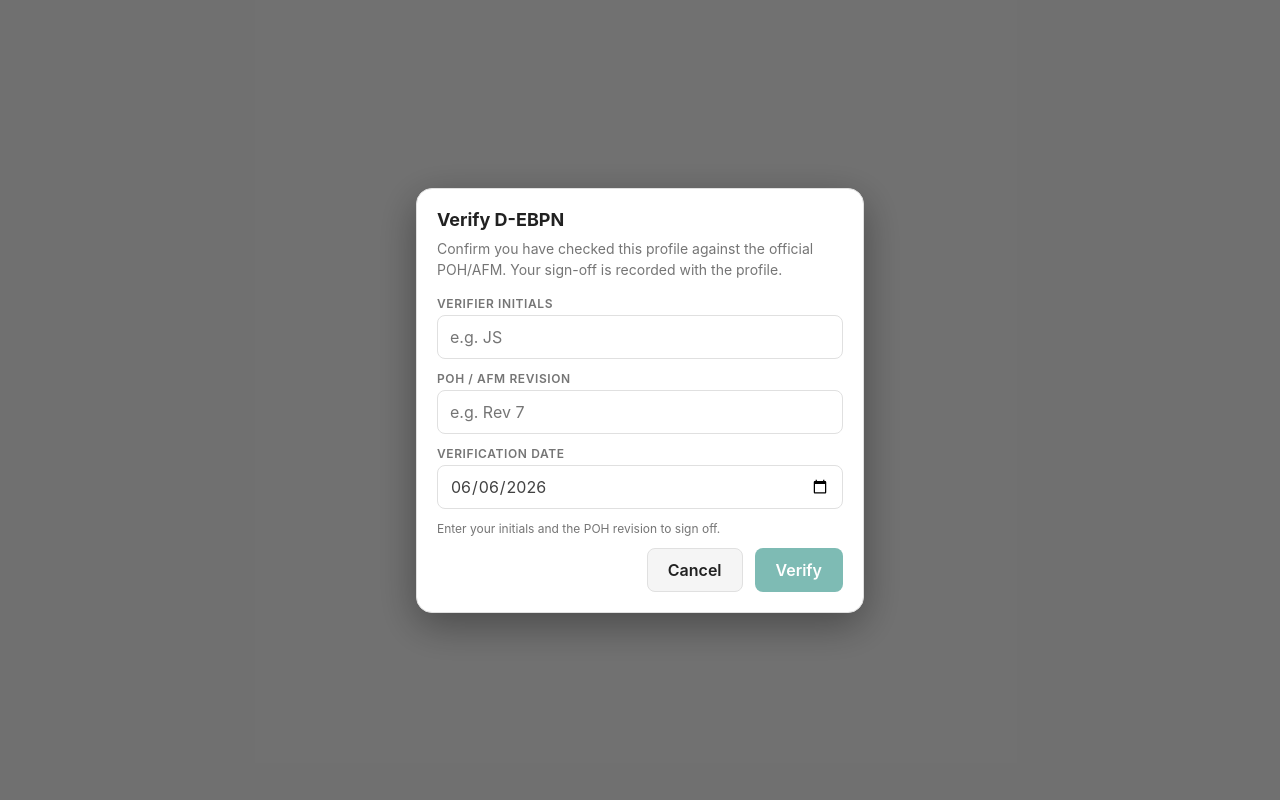
Test: VerifyProfileDialog › keeps the Verify button disabled until initials and POH revision are entered
Expected: the button "Verify" is disabled, [754, 548, 843, 592]
Type "JS" into the field named "Verifier initials" at (640,336), box [437, 314, 843, 358]
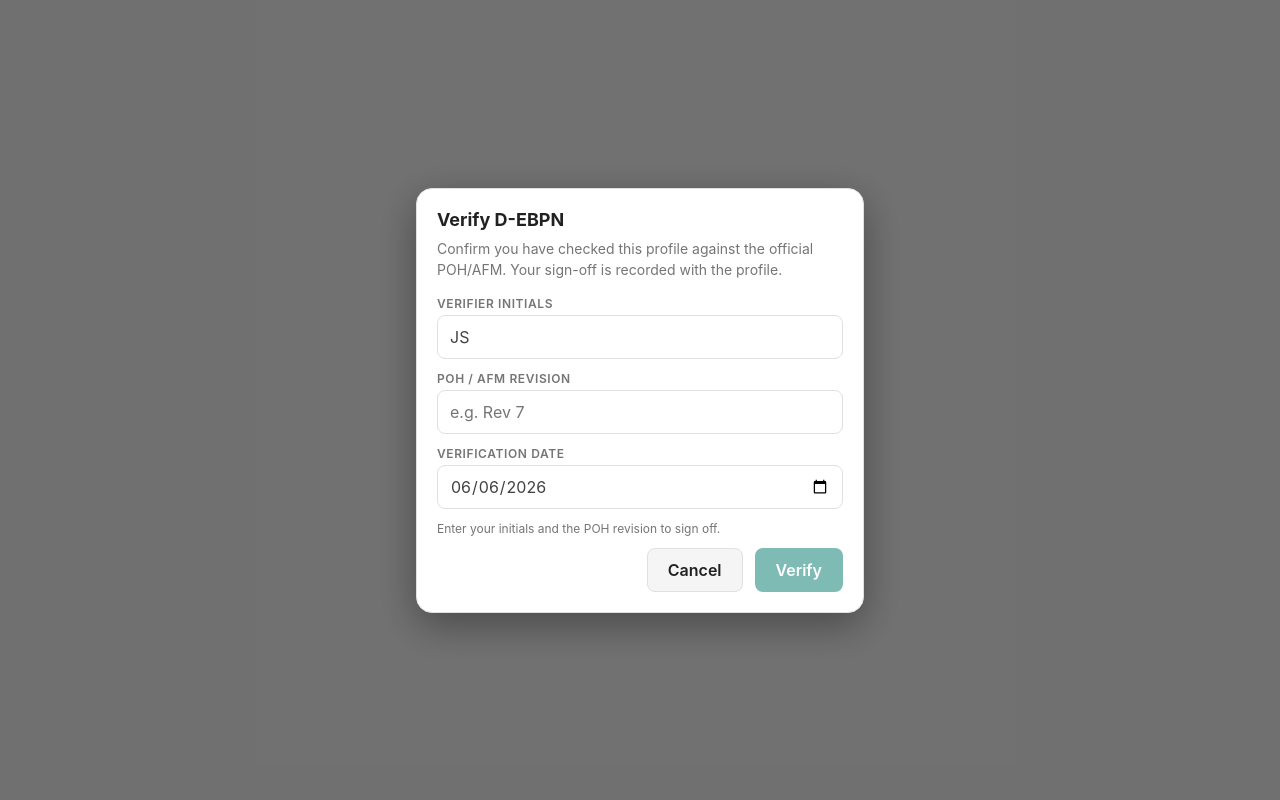
Expected: the button "Verify" is disabled, [754, 548, 843, 592]
Type "Rev 7" into the field named "POH revision" at (640,412), box [437, 390, 843, 434]
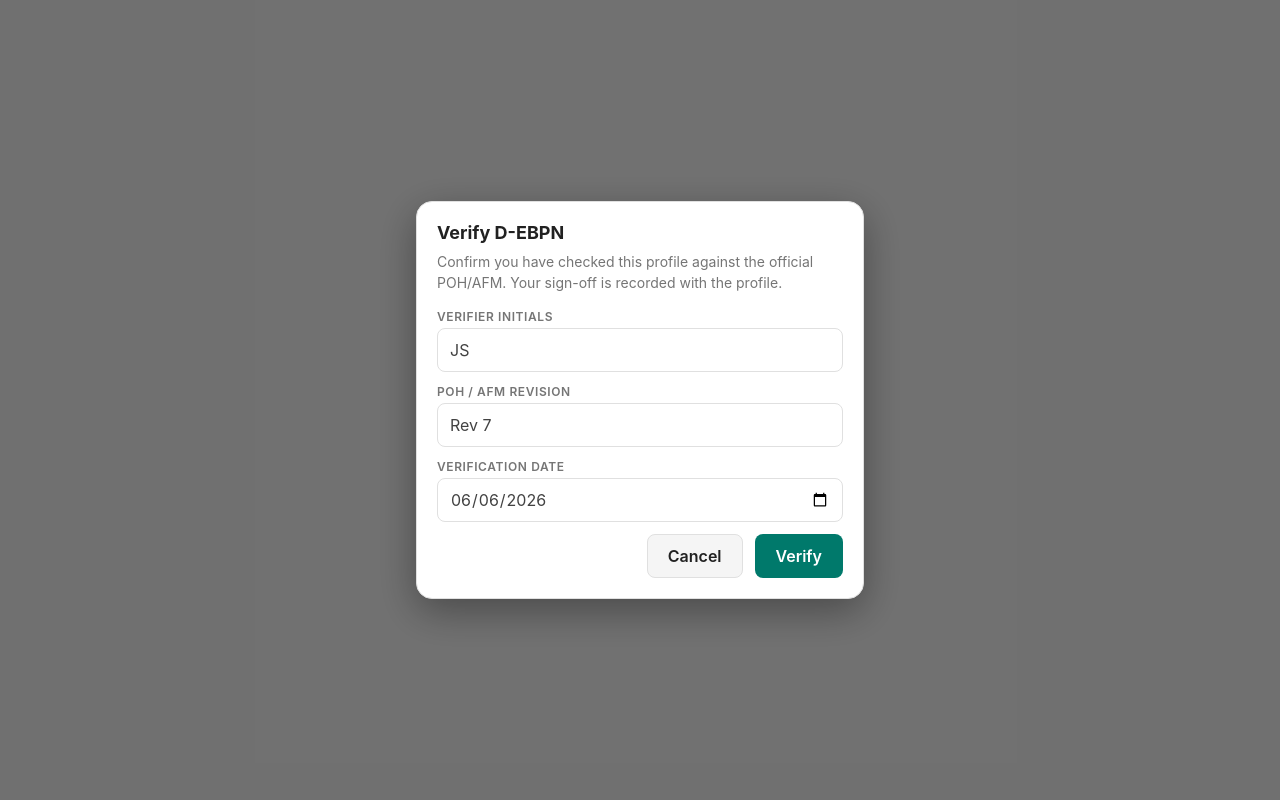
Now the button "Verify" is enabled, box [754, 534, 843, 578]
